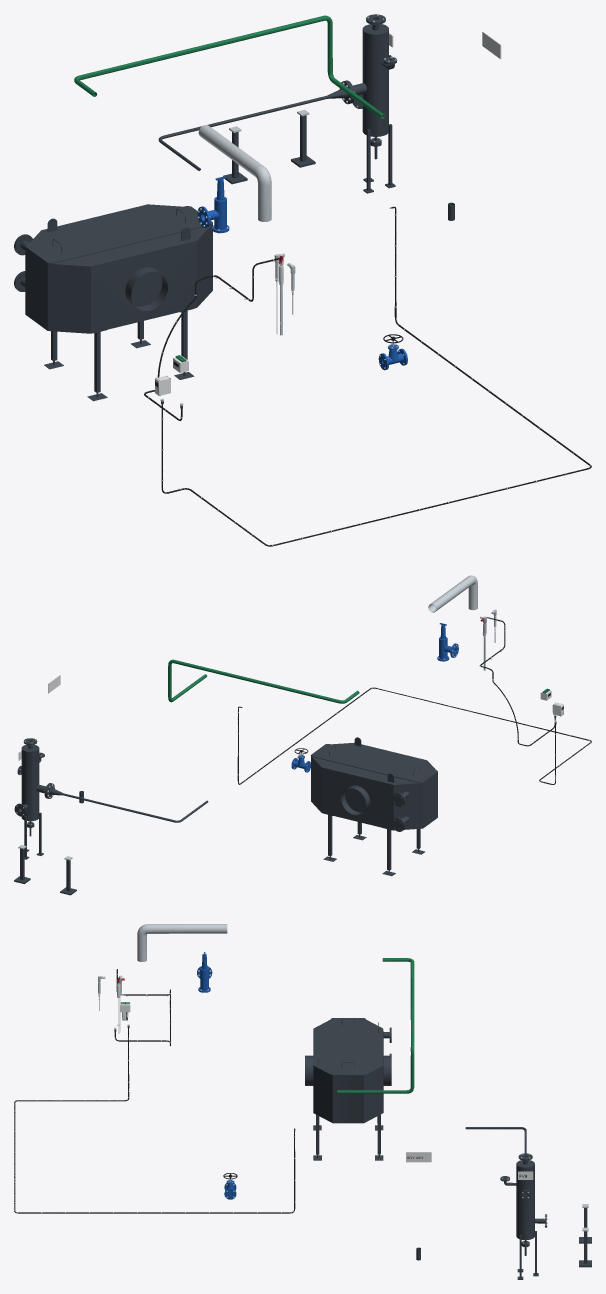
File: s4000-6-DNjYPbb4.glb
The picture shows the model from 3 angles, top to bottom: view 1: azimuth 30°, elevation 25°; view 2: azimuth 150°, elevation 25°; view 3: azimuth 270°, elevation 25°; orthographic projection. The views are drawn at different scales.
Visible parts, largest first — view 1: EQS2-1500 CAD 3, EQS2-1500 CAD 0, separator_fv8 / dark, EQS2-1500 CAD 1, to_direct / green, wiring_pump_2 / black, steam_rise / steel, tds_to_fv / dark, safety_2 / blue, trap_support / dark; view 2: EQS2-1500 CAD 3, EQS2-1500 CAD 0, separator_fv8 / dark, EQS2-1500 CAD 2, to_direct / green, wiring_pump_2 / black, tds_to_fv / dark, steam_rise / steel, trap_support / dark, safety_2 / blue; view 3: EQS2-1500 CAD 3, separator_fv8 / dark, wiring_pump_2 / black, EQS2-1500 CAD 0, to_direct / green, steam_rise / steel.
Boxes of the visible parts, x1=… form: EQS2-1500 CAD 3: x1=25, y1=204, x2=212, y2=330; EQS2-1500 CAD 0: x1=44, y1=240, x2=196, y2=401; separator_fv8 / dark: x1=345, y1=14, x2=397, y2=193; EQS2-1500 CAD 1: x1=47, y1=263, x2=90, y2=333; to_direct / green: x1=74, y1=15, x2=385, y2=118; wiring_pump_2 / black: x1=161, y1=206, x2=591, y2=546; steam_rise / steel: x1=223, y1=143, x2=271, y2=221; tds_to_fv / dark: x1=158, y1=81, x2=353, y2=170; safety_2 / blue: x1=197, y1=176, x2=229, y2=233; trap_support / dark: x1=223, y1=115, x2=315, y2=184; EQS2-1500 CAD 3: x1=310, y1=737, x2=437, y2=828; EQS2-1500 CAD 0: x1=321, y1=767, x2=425, y2=876; separator_fv8 / dark: x1=14, y1=738, x2=50, y2=859; EQS2-1500 CAD 2: x1=391, y1=783, x2=422, y2=831; to_direct / green: x1=168, y1=659, x2=359, y2=703; wiring_pump_2 / black: x1=237, y1=687, x2=591, y2=784; tds_to_fv / dark: x1=46, y1=783, x2=208, y2=822; steam_rise / steel: x1=447, y1=575, x2=477, y2=610; trap_support / dark: x1=14, y1=848, x2=76, y2=895; safety_2 / blue: x1=437, y1=623, x2=458, y2=661; EQS2-1500 CAD 3: x1=313, y1=1018, x2=383, y2=1123; separator_fv8 / dark: x1=500, y1=1153, x2=546, y2=1279; wiring_pump_2 / black: x1=14, y1=1028, x2=295, y2=1213; EQS2-1500 CAD 0: x1=305, y1=1031, x2=391, y2=1160; to_direct / green: x1=337, y1=958, x2=414, y2=1093; steam_rise / steel: x1=137, y1=924, x2=192, y2=961.
Bounding box in the file's own units: 5.19 × 2.82 × 6.75.
